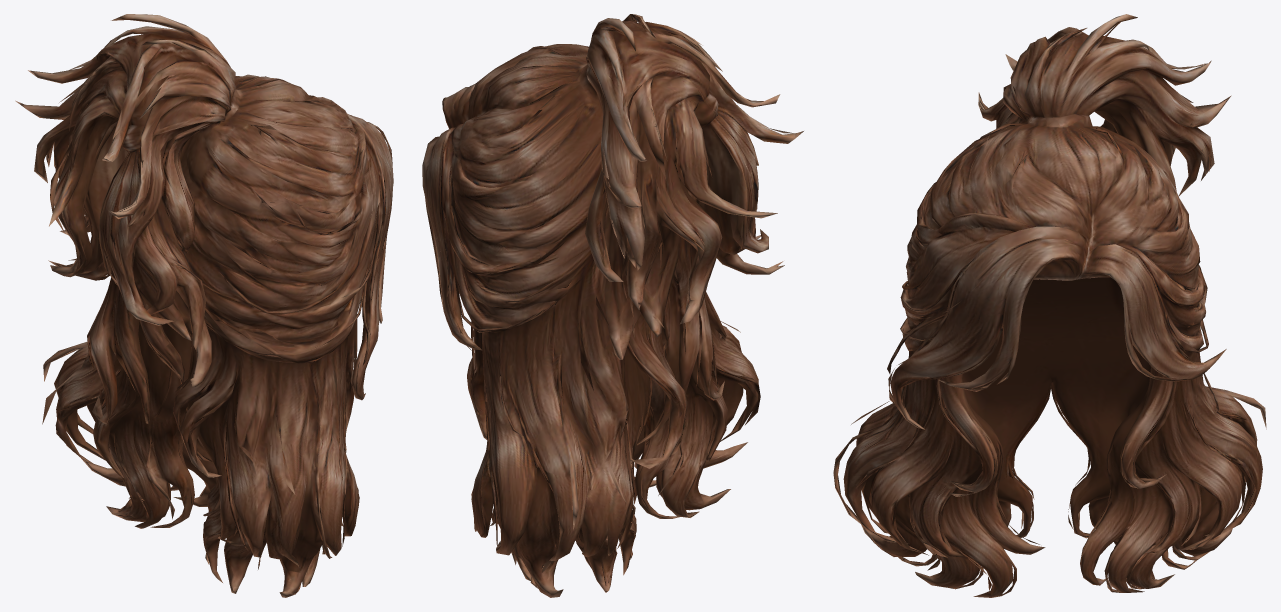
File: half-up.glb
The picture shows the model from 3 angles, left to right: view 1: azimuth 30°, elevation 25°; view 2: azimuth 150°, elevation 25°; view 3: azimuth 270°, elevation 25°; orthographic projection. The views are drawn at different scales.
Visible parts, largest first — view 1: tripo_node_6111931c-3c5a-4bb1-9838-3c89185985ca; view 2: tripo_node_6111931c-3c5a-4bb1-9838-3c89185985ca; view 3: tripo_node_6111931c-3c5a-4bb1-9838-3c89185985ca.
Boxes of the visible parts, x1,y1,x2,y2 form: tripo_node_6111931c-3c5a-4bb1-9838-3c89185985ca: (15,14,393,597); tripo_node_6111931c-3c5a-4bb1-9838-3c89185985ca: (422,14,803,597); tripo_node_6111931c-3c5a-4bb1-9838-3c89185985ca: (833,14,1266,597).
Bounding box in the file's own units: 0.6395 × 0.9795 × 0.7213.
Materials: 1 (1 with a texture image).
